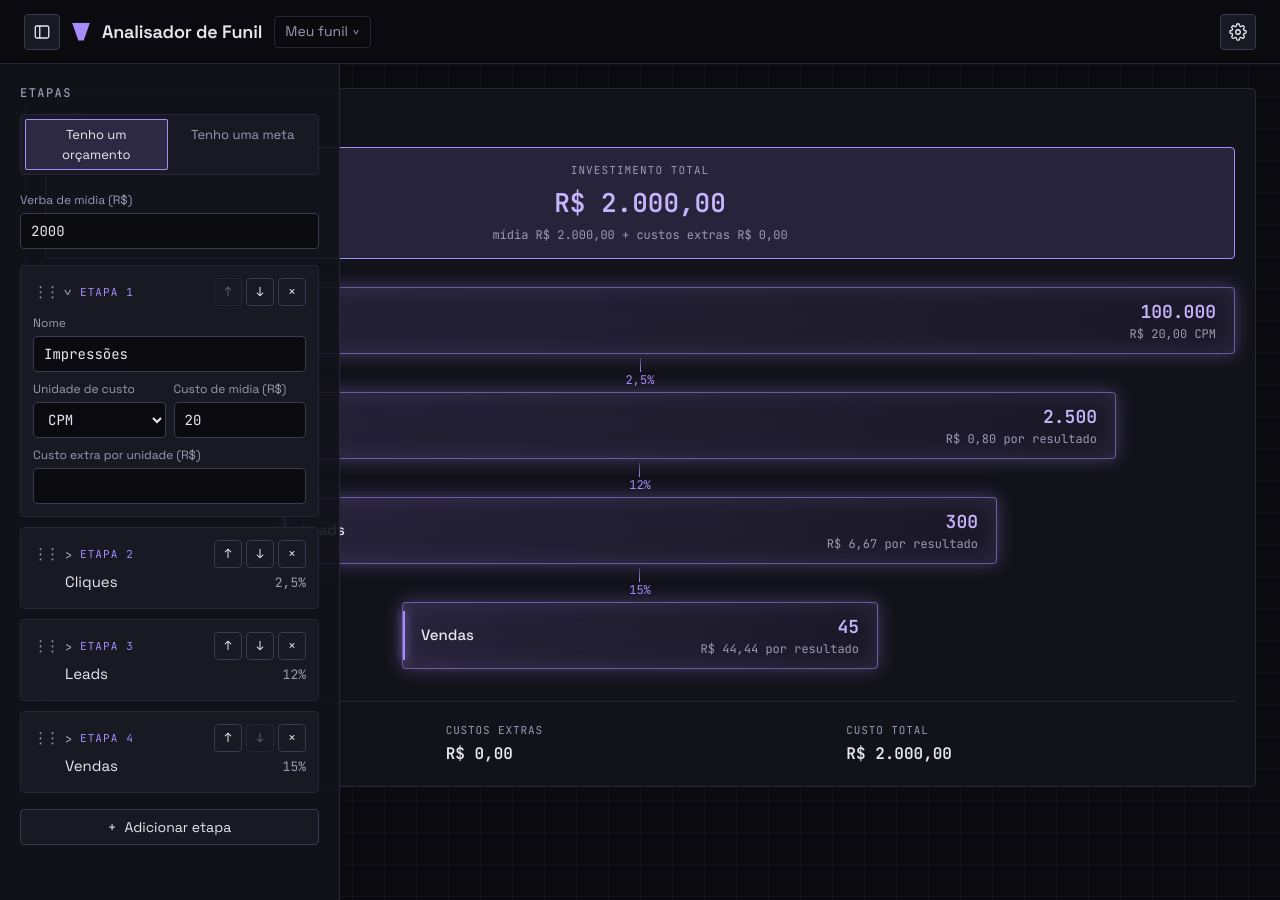
Scenario: modal (testes extras) › depois de clicar numa área sem controle dentro do modal, Esc ainda fecha
Click the button named "Configurações".
click(1238, 32)  # box [1220,14,1256,50]
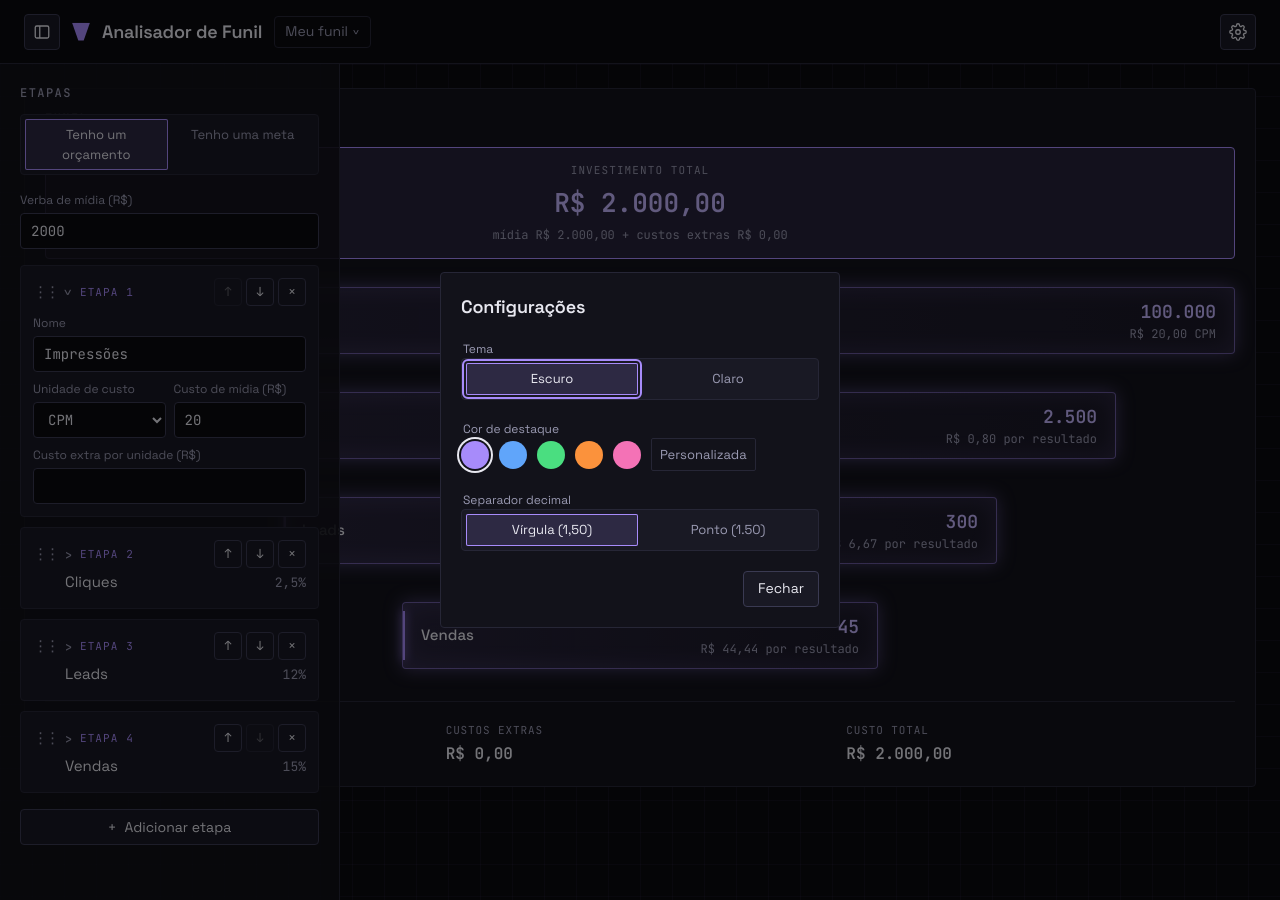
Click the heading "Configurações".
click(523, 307)  # box [461,295,585,318]
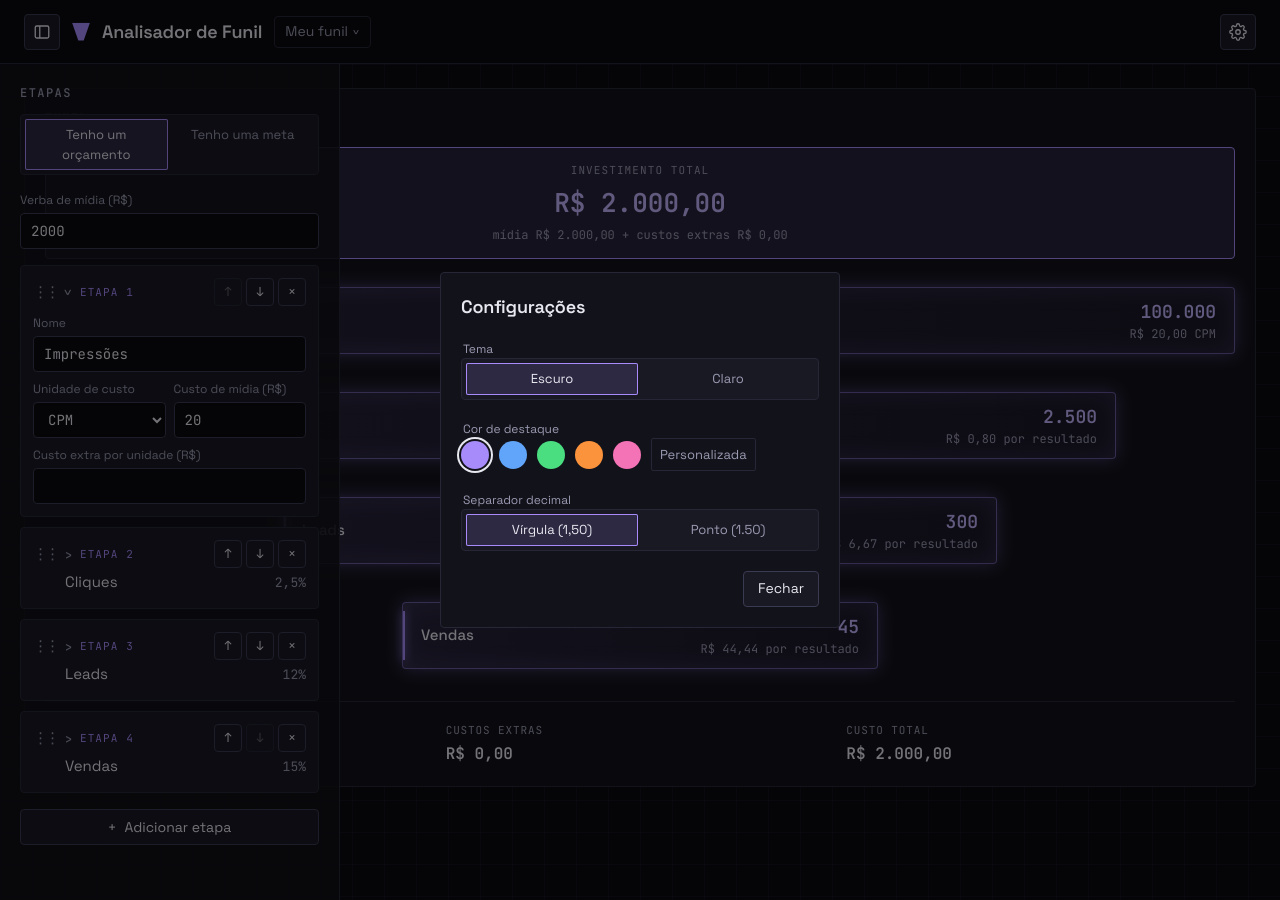
Press Escape
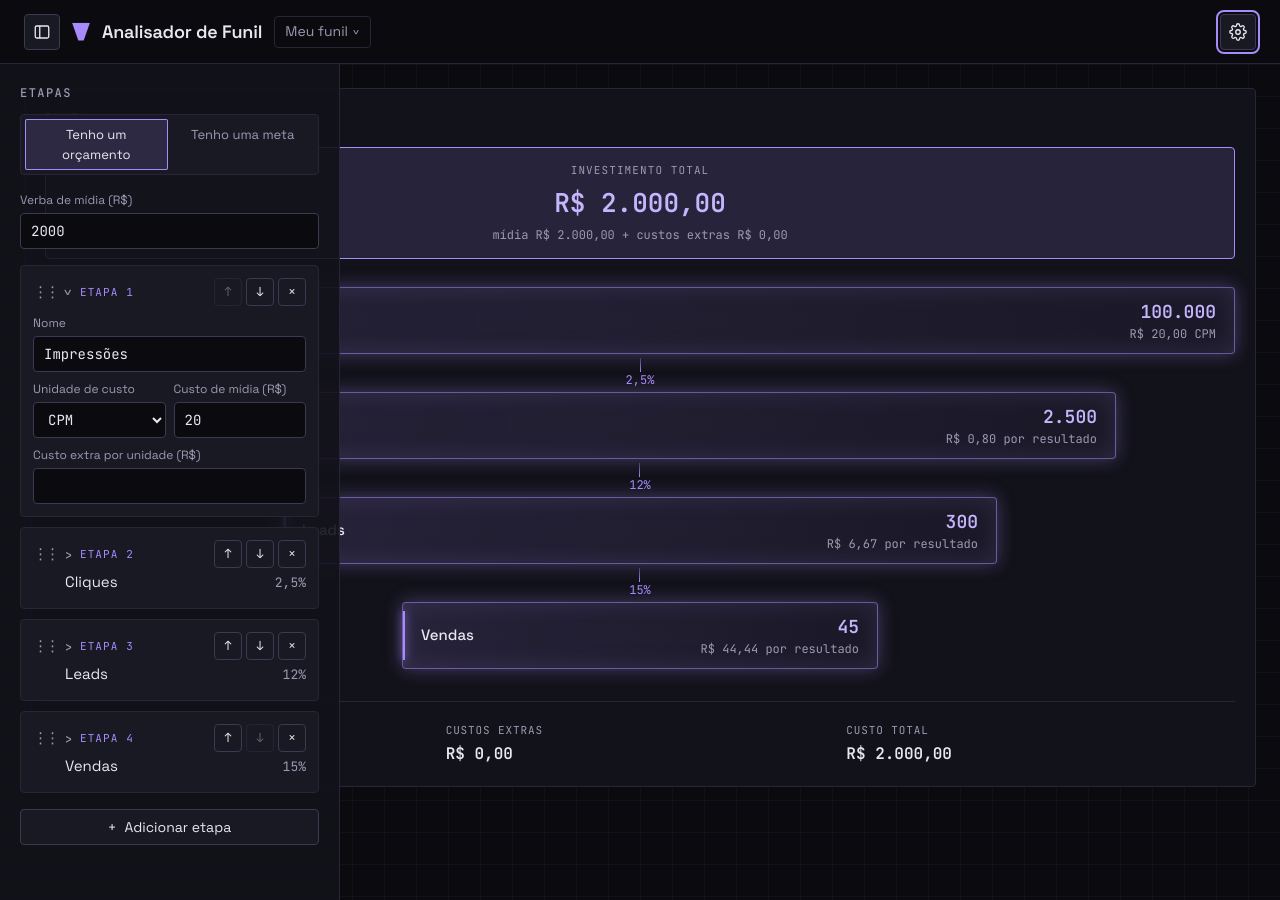
Expected: the heading "Configurações" is gone
